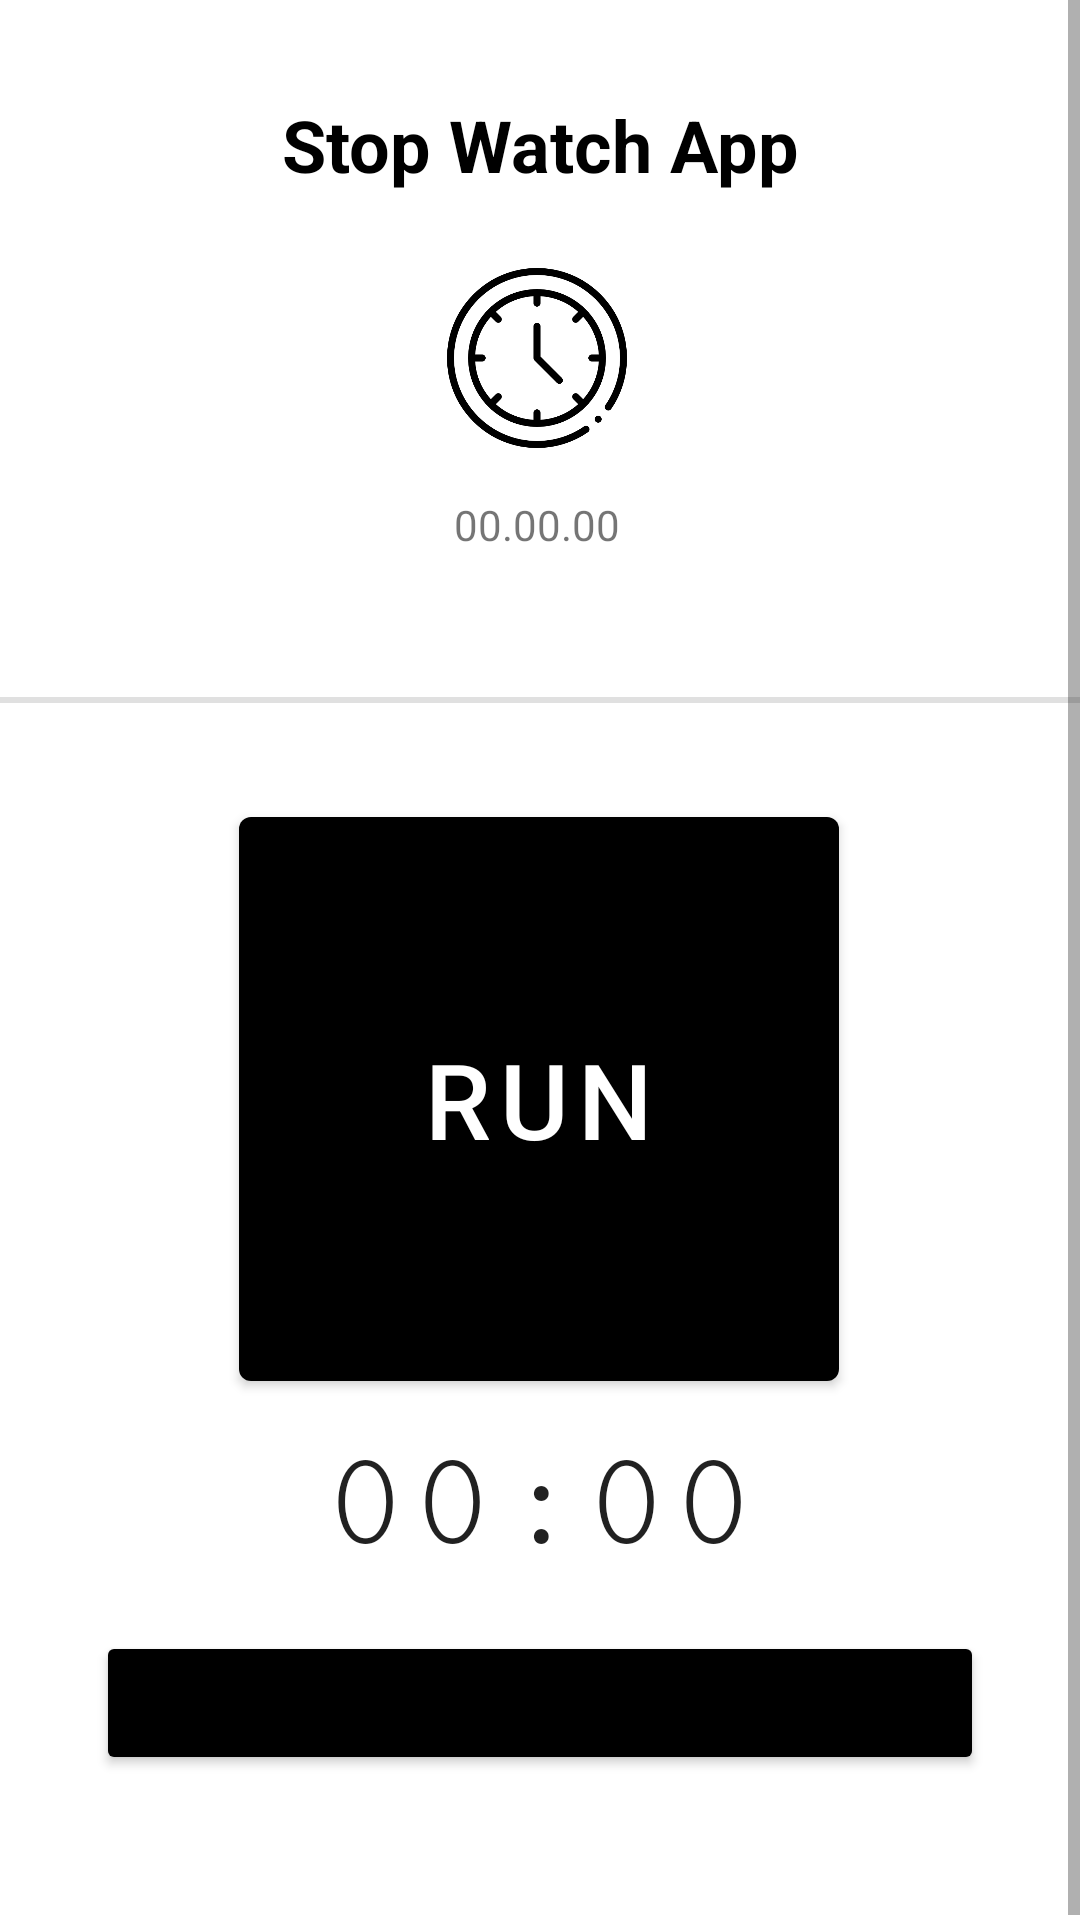

Screen size 1080 x 1920. Icon name, then its box in pixels as (x1=x1, y1=y1, x2=x2, y2=y2):
clock: (x1=447, y1=268, x2=627, y2=448)
